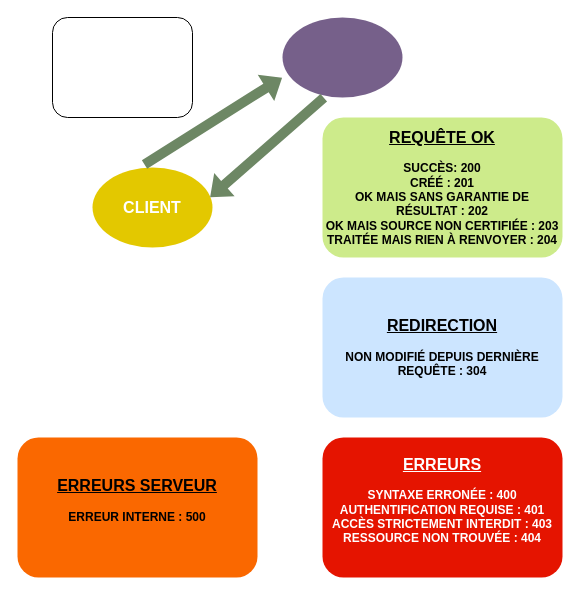
Some shapes in this 579 by 595 pixel diagram are drawn without their labels. The shapes that lost their labels are listed below. From the top down, each one's centre as x and y in pixels, then its label:
At pixel 122 67: "REQUÊTE HTTP (GET, PUT, PATCH, DELETE)".
At pixel 342 57: "SERVEUR".
